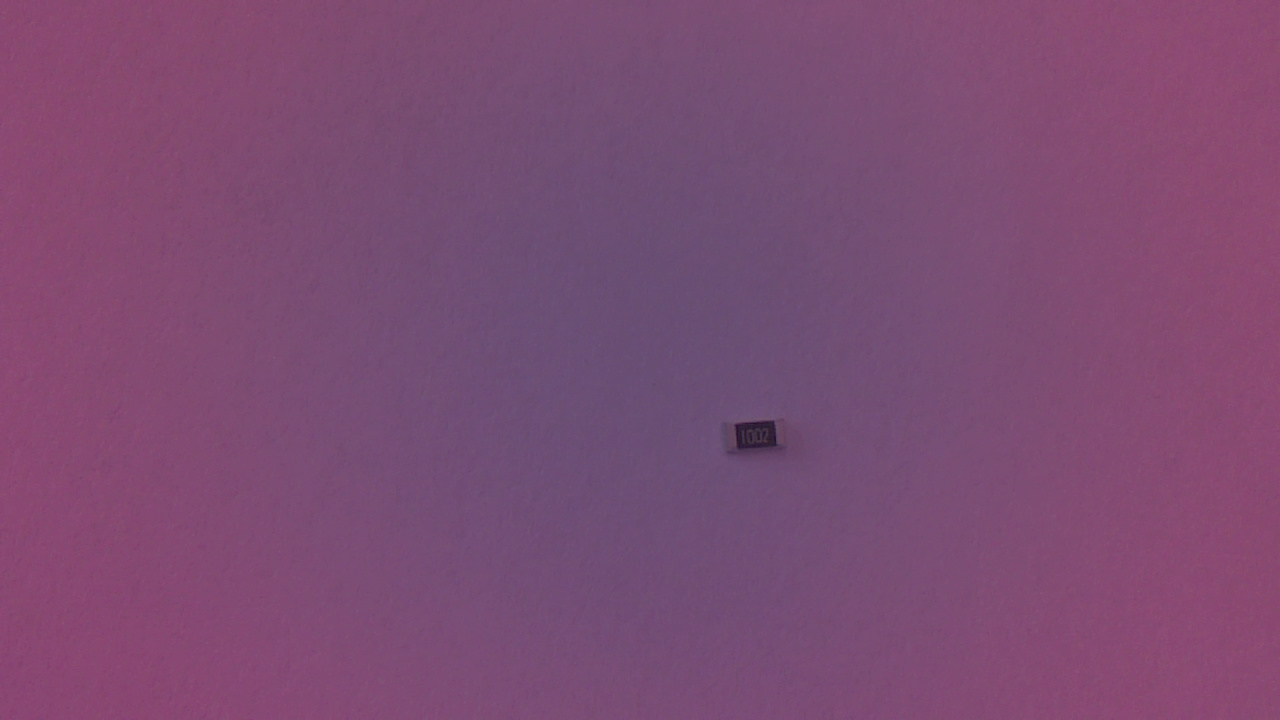Resistor: (724, 421, 795, 461)
